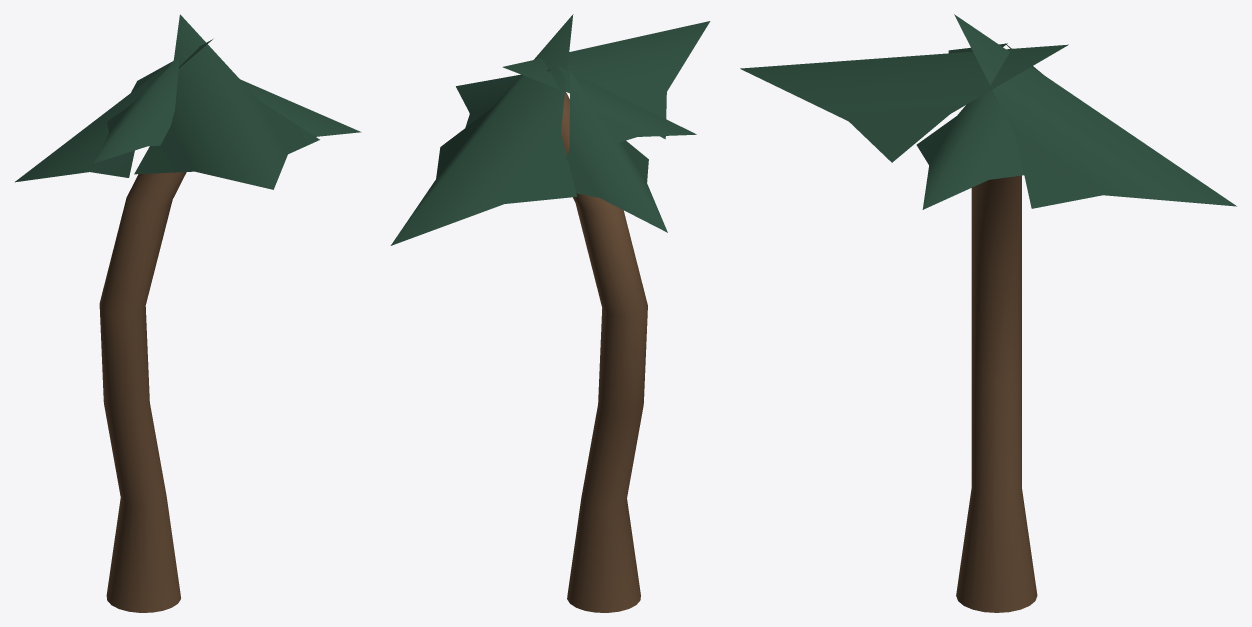
File: BeachTree_Test.glb
The picture shows the model from 3 angles, left to right: view 1: azimuth 30°, elevation 25°; view 2: azimuth 150°, elevation 25°; view 3: azimuth 270°, elevation 25°; orthographic projection. The views are drawn at different scales.
Parts seen in each view (by area): view 1: BeachTreeBody; view 2: BeachTreeBody; view 3: BeachTreeBody.
Part boxes in pixels (x1,y1,x2,y2): BeachTreeBody: [15, 14, 361, 612]; BeachTreeBody: [390, 14, 710, 612]; BeachTreeBody: [740, 14, 1236, 612].
Size of the model in its own units: 0.1909 by 0.3643 by 0.2702.
